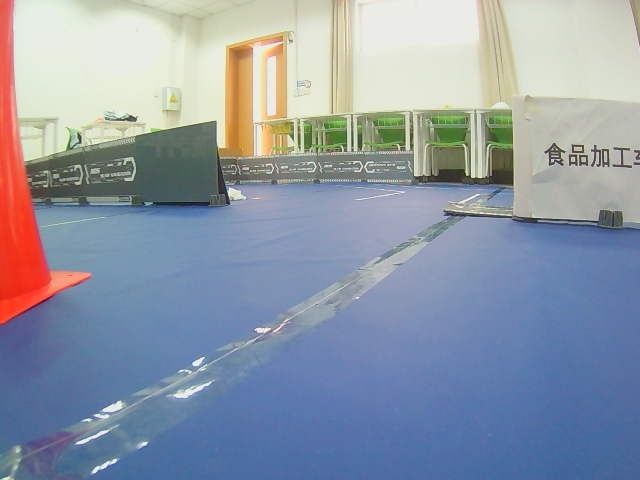target: (542, 142, 640, 169)
